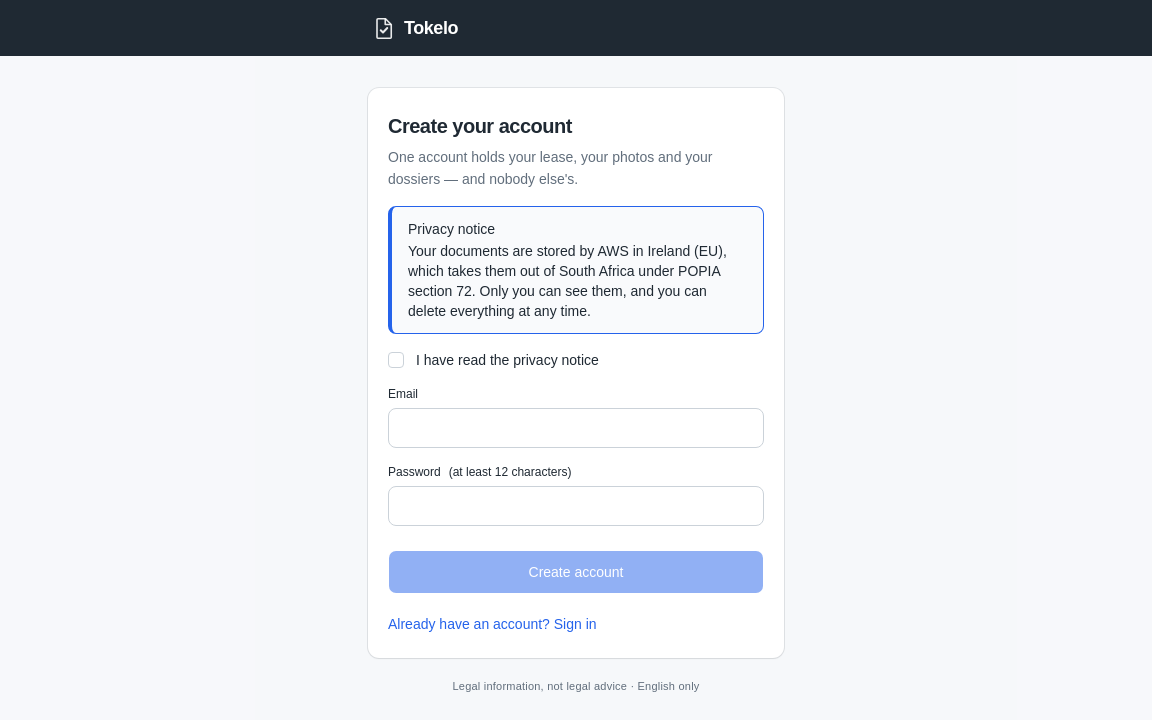
Test: [REQ-015] the privacy notice comes before the account › keeps Create account out of reach until the tenant says they have read it
The width and height of the screenshot is (1152, 720).
Expected: the button "Create account" is disabled, [388,550,764,594]
Click the checkbox named "i have read the privacy notice".
click(396, 360)  # box [388,352,404,368]
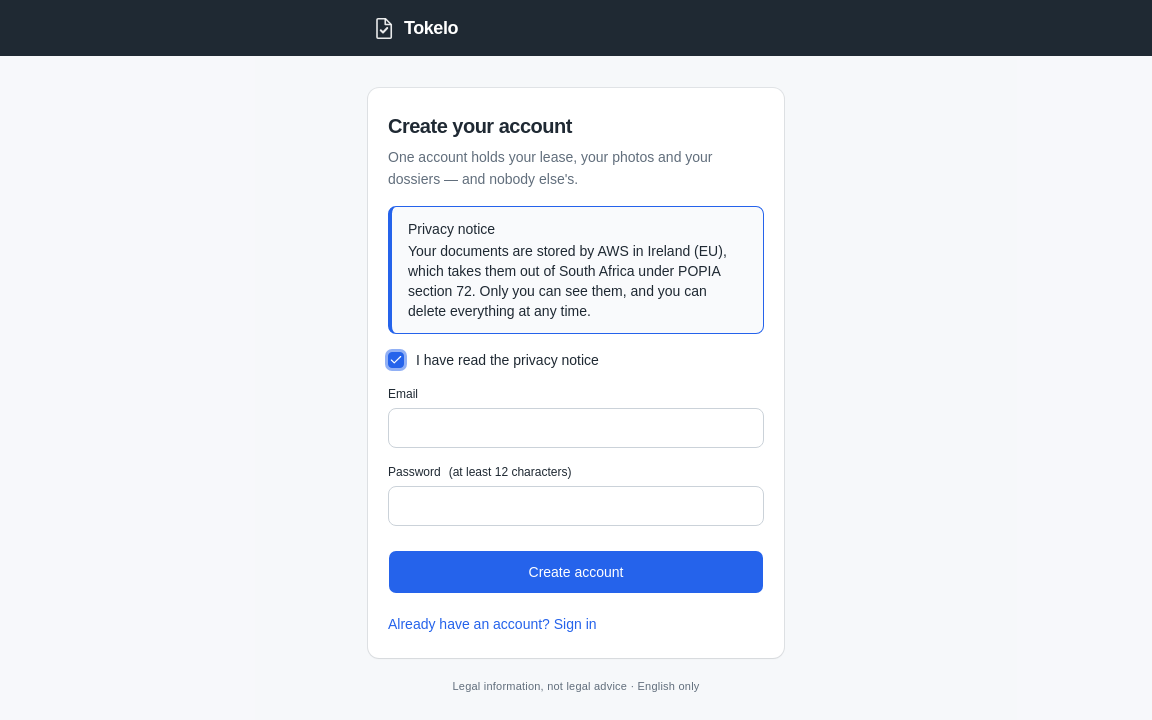
Now the button "Create account" is enabled, box [388,550,764,594]
